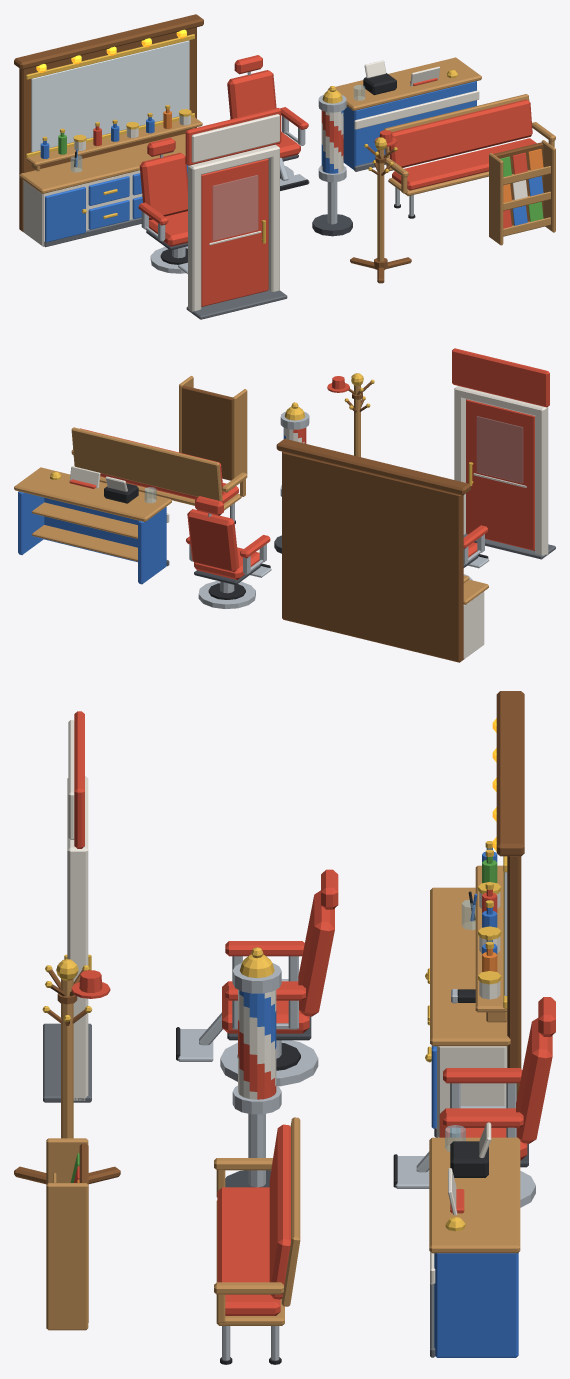
The model's file is low-poly-barber-shop.glb.
The picture shows the model from 3 angles, top to bottom: view 1: azimuth 30°, elevation 25°; view 2: azimuth 150°, elevation 25°; view 3: azimuth 270°, elevation 25°; orthographic projection. The views are drawn at different scales.
Parts seen in each view (by area): view 1: MirrorStation_Body, WaitingBench_Body, ShopDoor_Door, ReceptionCounter_Body, ShopDoor_Body, MagazineRack_Body, BarberChair_B_Seat, BarberChair_A_Seat, ShopDoor_Sign, MirrorStation, CoatStand_Body, BarberPole_Body (+3 smaller); view 2: MirrorStation_Body, ReceptionCounter_Body, ShopDoor_Door, ShopDoor_Body, WaitingBench_Body, MagazineRack_Body, BarberChair_A_Seat, BarberChair_A_Body, CoatStand_Body, BarberChair_B_Seat, BarberPole_Body, Reception_Sign; view 3: MirrorStation_Body, ReceptionCounter_Body, WaitingBench_Body, BarberChair_A_Seat, BarberChair_B_Seat, MagazineRack_Body, ShopDoor_Body, CoatStand_Body, BarberPole_Stripes, BarberPole_Body, BarberChair_B_Body, ShopDoor_Sign.
Boxes of the visible parts, x1=… form: MirrorStation_Body: x1=14, y1=14, x2=203, y2=247; WaitingBench_Body: x1=384, y1=94, x2=555, y2=218; ShopDoor_Door: x1=201, y1=158, x2=268, y2=306; ReceptionCounter_Body: x1=327, y1=57, x2=481, y2=171; ShopDoor_Body: x1=185, y1=108, x2=287, y2=319; MagazineRack_Body: x1=489, y1=140, x2=555, y2=245; BarberChair_B_Seat: x1=138, y1=137, x2=187, y2=273; BarberChair_A_Seat: x1=227, y1=55, x2=309, y2=190; ShopDoor_Sign: x1=191, y1=114, x2=279, y2=162; MirrorStation: x1=88, y1=173, x2=142, y2=229; CoatStand_Body: x1=350, y1=130, x2=411, y2=283; BarberPole_Body: x1=312, y1=86, x2=352, y2=236; MirrorStation_Body: x1=276, y1=438, x2=488, y2=662; ReceptionCounter_Body: x1=14, y1=467, x2=171, y2=584; ShopDoor_Door: x1=466, y1=399, x2=534, y2=550; ShopDoor_Body: x1=452, y1=348, x2=555, y2=559; WaitingBench_Body: x1=71, y1=427, x2=247, y2=523; MagazineRack_Body: x1=179, y1=376, x2=247, y2=480; BarberChair_A_Seat: x1=186, y1=496, x2=271, y2=585; BarberChair_A_Body: x1=198, y1=581, x2=255, y2=608; CoatStand_Body: x1=327, y1=373, x2=374, y2=456; BarberChair_B_Seat: x1=463, y1=525, x2=489, y2=568; BarberPole_Body: x1=274, y1=402, x2=309, y2=553; Reception_Sign: x1=69, y1=466, x2=100, y2=488; MirrorStation_Body: x1=430, y1=691, x2=524, y2=1137; ReceptionCounter_Body: x1=429, y1=1122, x2=520, y2=1357; WaitingBench_Body: x1=214, y1=1117, x2=300, y2=1364; BarberChair_A_Seat: x1=393, y1=997, x2=555, y2=1188; BarberChair_B_Seat: x1=176, y1=869, x2=338, y2=1061; MagazineRack_Body: x1=46, y1=1138, x2=88, y2=1330; ShopDoor_Body: x1=43, y1=711, x2=91, y2=1102; CoatStand_Body: x1=14, y1=959, x2=120, y2=1184; BarberPole_Stripes: x1=238, y1=989, x2=276, y2=1099; BarberPole_Body: x1=225, y1=947, x2=281, y2=1187; BarberChair_B_Body: x1=220, y1=1040, x2=318, y2=1086; ShopDoor_Sign: x1=68, y1=720, x2=74, y2=839.
Bounding box in the file's own units: 25.9 × 9.95 × 15.45.
